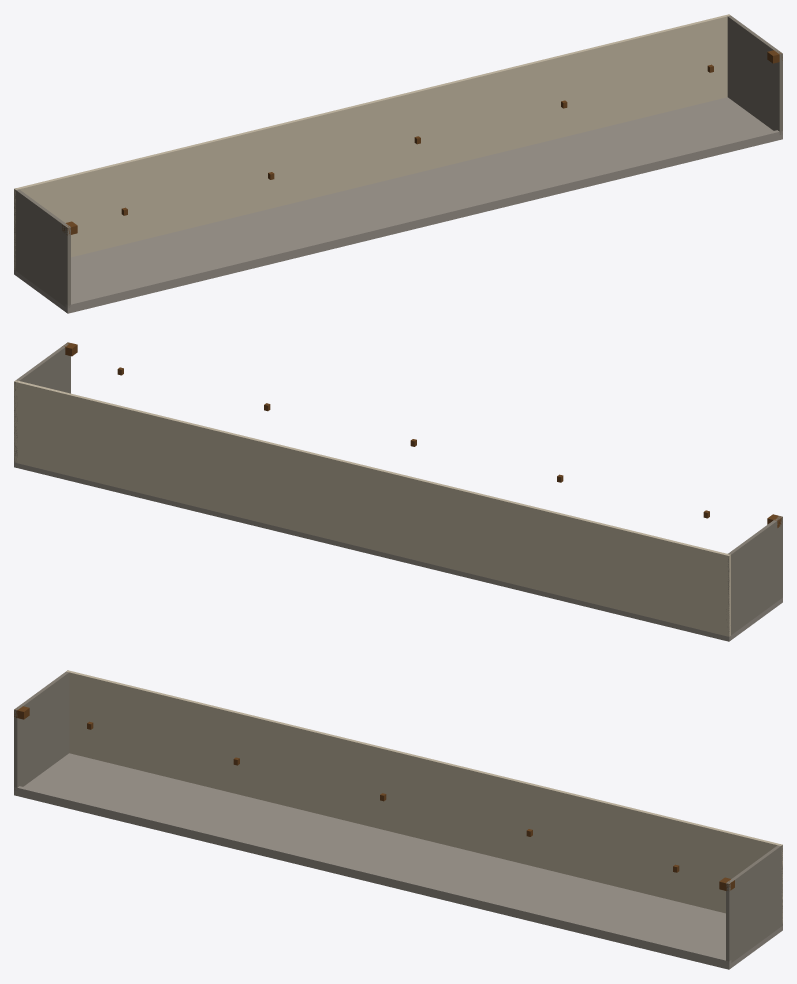
Rendered from trasteros_planta.gltf.
The picture shows the model from 3 angles, top to bottom: view 1: azimuth 30°, elevation 25°; view 2: azimuth 150°, elevation 25°; view 3: azimuth 330°, elevation 25°; orthographic projection.
Visible parts, largest first — view 1: trasera, forjado, pilar_izq, pilar_der, pretil; view 2: trasera, pilar_izq, forjado, pilar_der; view 3: trasera, forjado, pilar_der, pilar_izq, pretil.
Part boxes in pixels (bbox=[...]): trasera: bbox=[14, 14, 730, 270]; forjado: bbox=[14, 97, 782, 313]; pilar_izq: bbox=[14, 188, 70, 308]; pilar_der: bbox=[727, 15, 782, 134]; pretil: bbox=[65, 130, 782, 308]; trasera: bbox=[14, 380, 730, 636]; pilar_izq: bbox=[726, 516, 782, 635]; forjado: bbox=[14, 462, 782, 641]; pilar_der: bbox=[14, 342, 70, 462]; trasera: bbox=[66, 670, 782, 923]; forjado: bbox=[14, 753, 782, 969]; pilar_der: bbox=[726, 844, 782, 964]; pilar_izq: bbox=[14, 670, 69, 790]; pretil: bbox=[14, 786, 731, 964].
Size of the model in its own units: 21.48 by 2.46 by 2.8.
